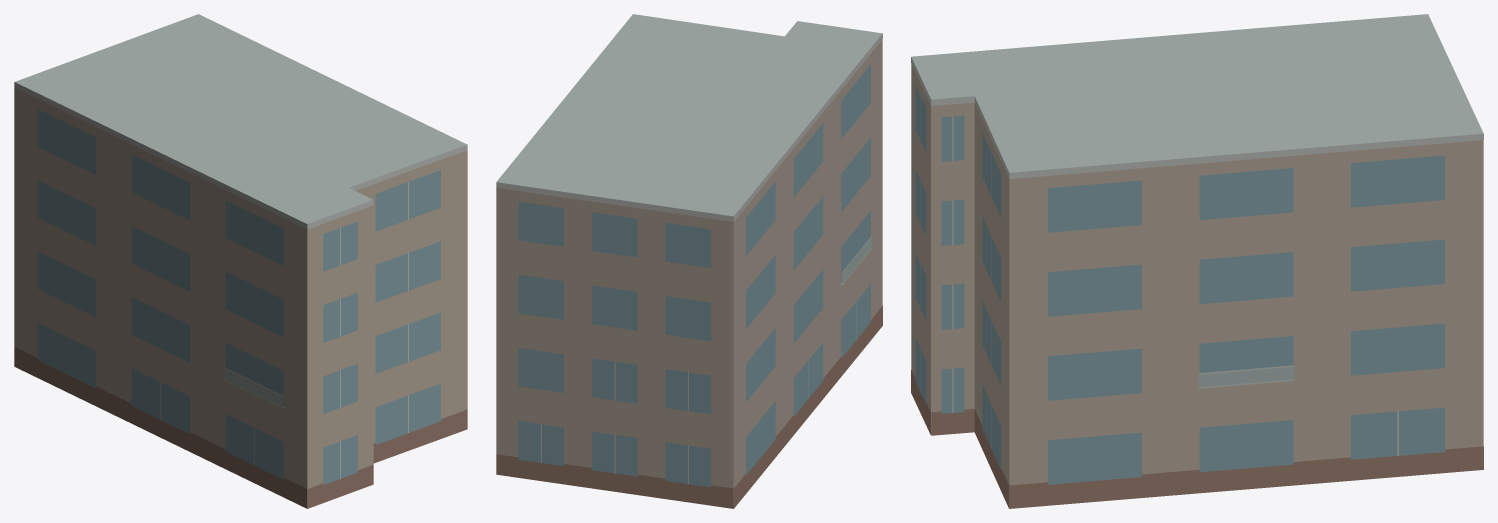
File: survey-upis-32911831.glb
3 views of the same model, side by side, from view 1: azimuth 30°, elevation 25°; view 2: azimuth 150°, elevation 25°; view 3: azimuth 270°, elevation 25° (orthographic). The views are drawn at different scales.
Visible parts, largest first — view 1: survey-upis-32911831.tmp; view 2: survey-upis-32911831.tmp; view 3: survey-upis-32911831.tmp.
Boxes of the visible parts, x1,y1,x2,y2 form: survey-upis-32911831.tmp: (14, 14, 467, 508); survey-upis-32911831.tmp: (496, 14, 882, 508); survey-upis-32911831.tmp: (911, 14, 1483, 508).
Size of the model in its own units: 12.98 by 12.8 by 19.78.
